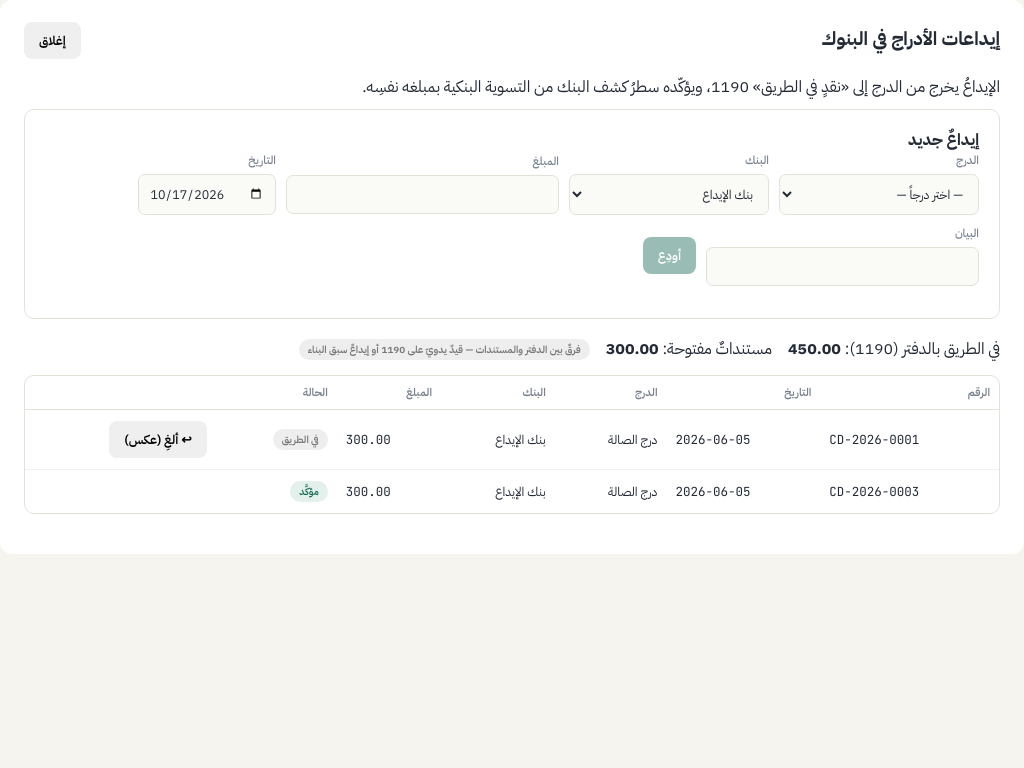
لوحةُ إيداعات الأدراج › الإلغاءُ عكسٌ للمفتوح وحدَه، والفرقُ بين الدفتر والمستندات يُعلَن كما قاله الخادم
Expected: the text "CD-2026-0003" is shown, [820, 470, 999, 513]
Expected: the text with test id "in-transit-gap" is shown, [299, 338, 590, 360]
Click the button "↩ ألغِ (عكس)": (158, 440) [110, 421, 207, 458]
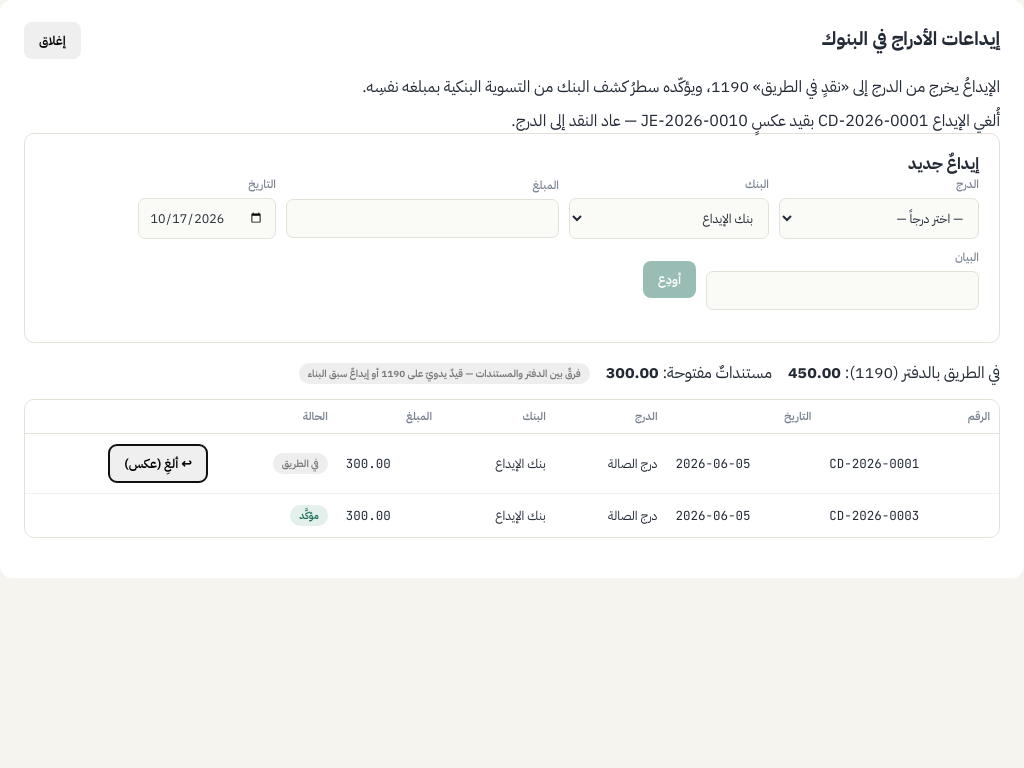
Expected: the text with test id "deposit-notice" shows "JE-2026-0010", [511, 109, 1000, 133]
